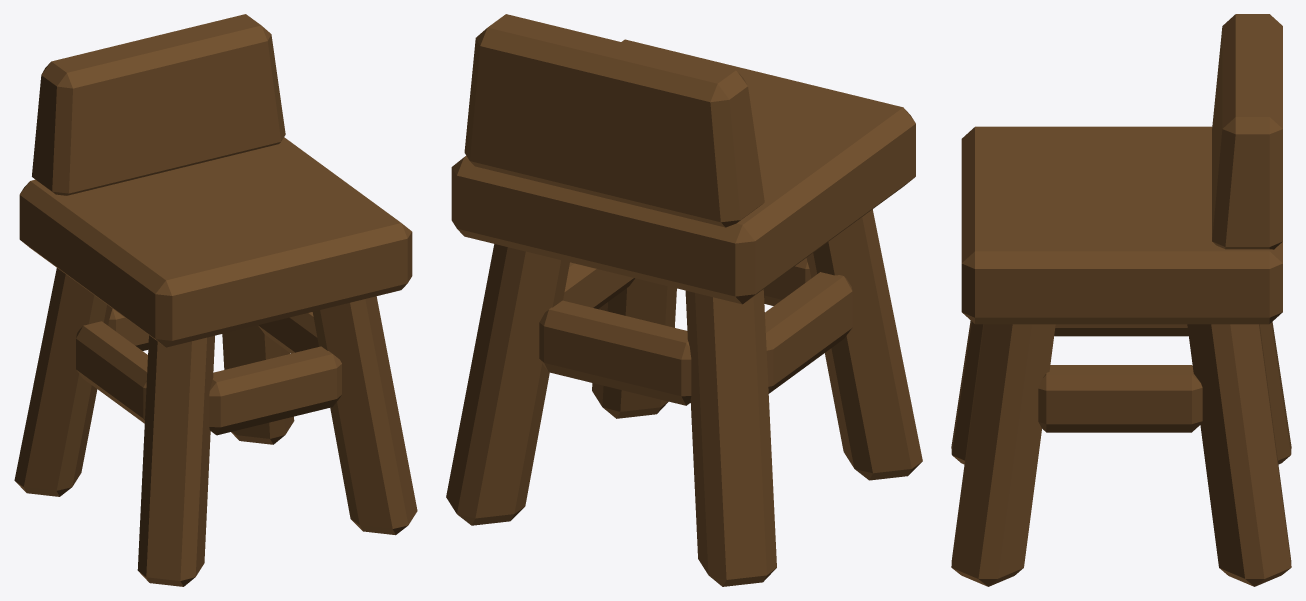
Rendered from chair_b.gltf.
3 views of the same model, side by side, from view 1: azimuth 30°, elevation 25°; view 2: azimuth 150°, elevation 25°; view 3: azimuth 270°, elevation 25° (orthographic). The views are drawn at different scales.
Parts seen in each view (by area): view 1: chair_b001; view 2: chair_b001; view 3: chair_b001.
Boxes of the visible parts, left/top/right/bottom form: chair_b001: left=14, top=14, right=417, bottom=586; chair_b001: left=446, top=14, right=922, bottom=586; chair_b001: left=951, top=14, right=1291, bottom=586.
Bounding box in the file's own units: 0.4226 × 0.6239 × 0.4233.
1 material, 1 textured.
